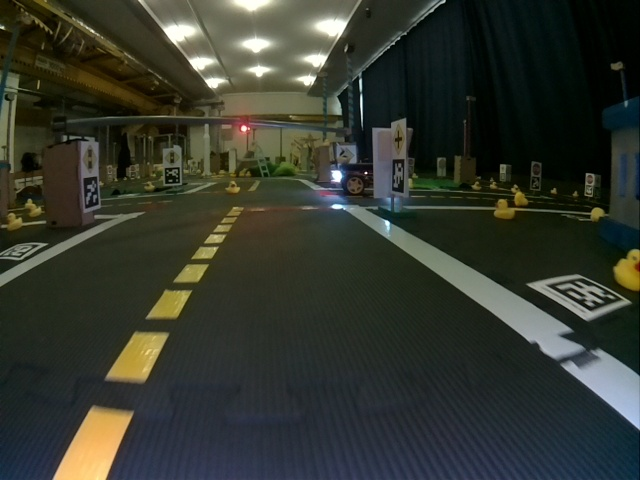Duckie: (613, 251, 639, 292), (494, 199, 515, 219), (591, 207, 605, 222), (225, 181, 240, 193), (515, 193, 528, 206)
Intersection sign: (392, 121, 405, 156)
QR code: (531, 274, 632, 321), (2, 243, 49, 261), (81, 176, 101, 210), (391, 158, 407, 193), (166, 167, 180, 184), (531, 177, 541, 189), (585, 185, 594, 195)
Signal sign: (81, 141, 99, 174), (164, 150, 181, 164)
